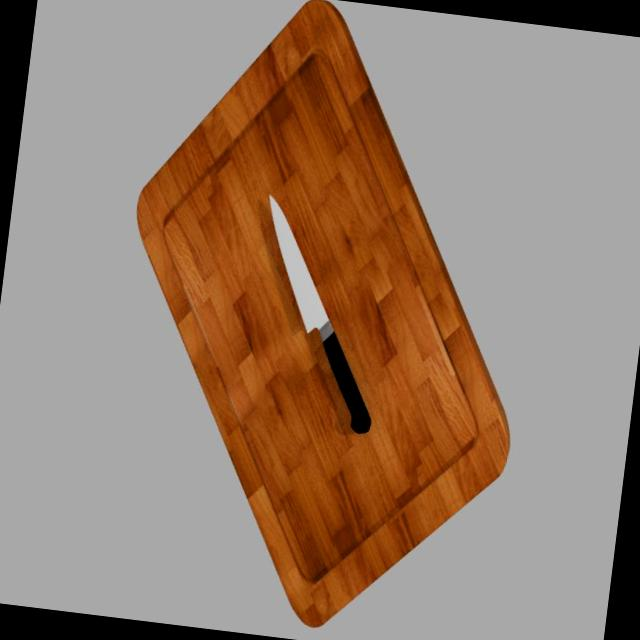knife: (311, 330, 381, 434)
